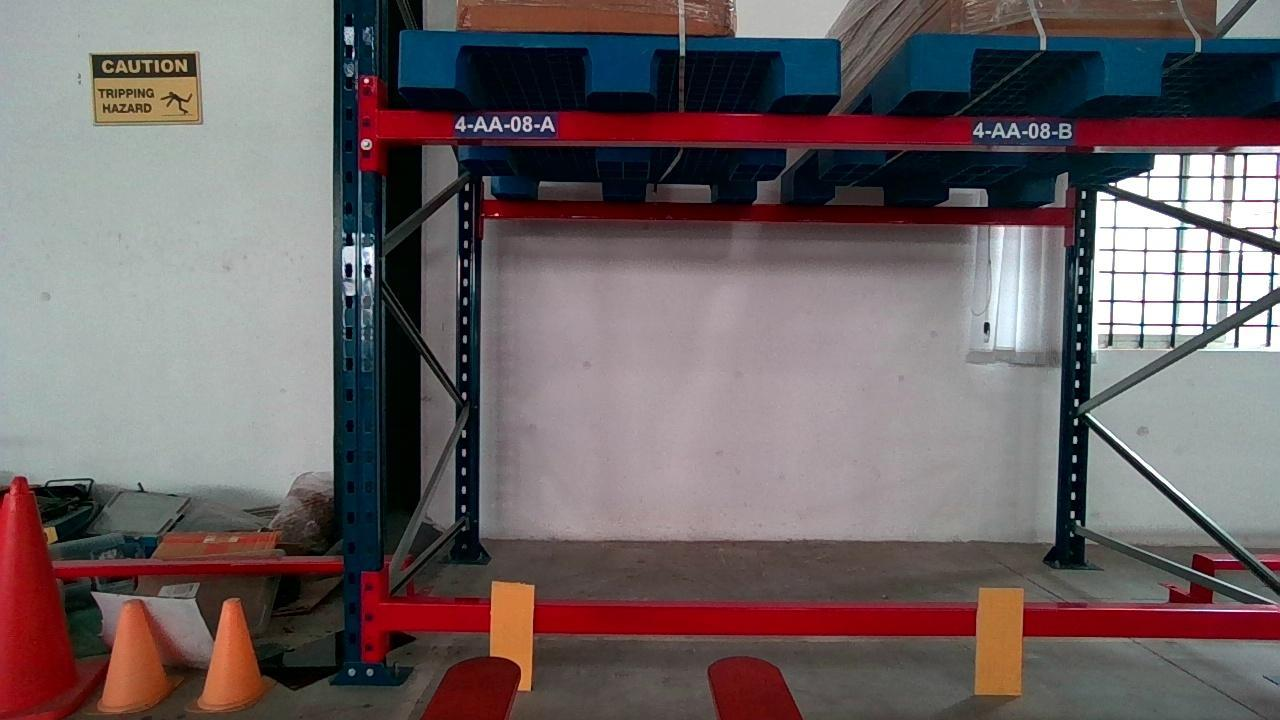h_rack: (381, 600, 1279, 637), (381, 110, 1279, 144)
orange_strip: (971, 583, 1024, 698), (490, 581, 534, 690)
small_pallet: (403, 31, 840, 96), (916, 31, 1279, 101)
